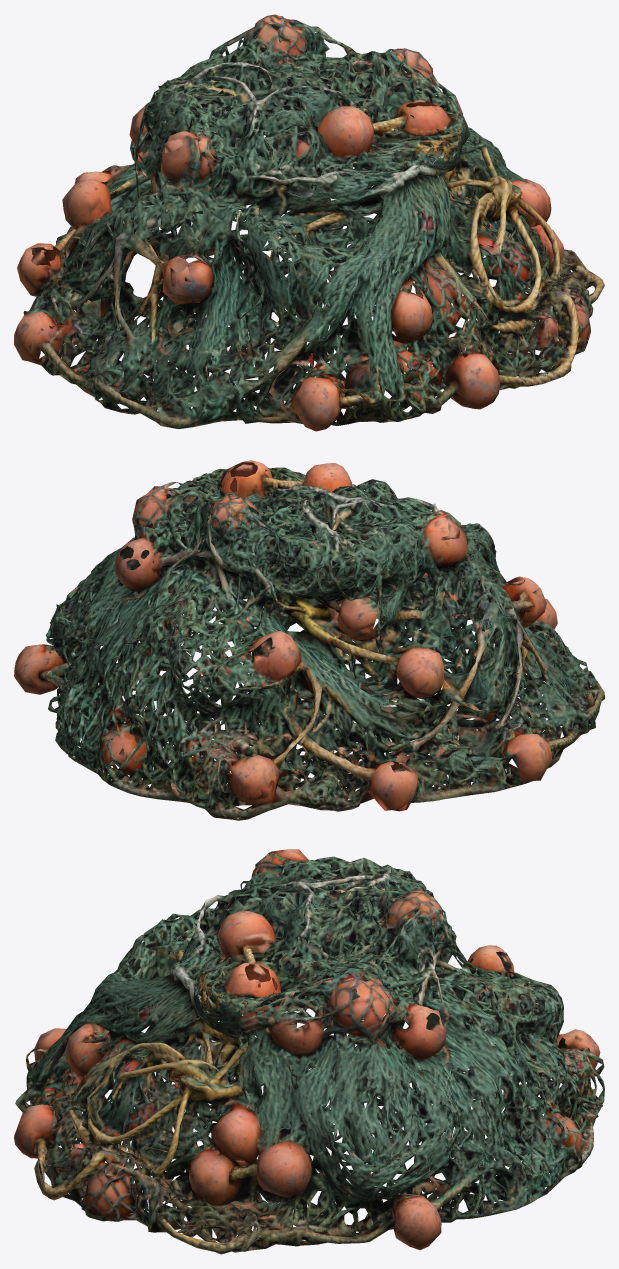
Rendered from NetPile.glb.
3 views of the same model, one above another, from view 1: azimuth 30°, elevation 25°; view 2: azimuth 150°, elevation 25°; view 3: azimuth 270°, elevation 25° (orthographic). The views are drawn at different scales.
Visible parts, largest first — view 1: texture_mapping; view 2: texture_mapping; view 3: texture_mapping.
Boxes of the visible parts, x1=… form: texture_mapping: x1=14, y1=14, x2=604, y2=431; texture_mapping: x1=14, y1=460, x2=604, y2=820; texture_mapping: x1=14, y1=849, x2=604, y2=1254.
Size of the model in its own units: 0.9976 by 0.4704 by 0.9812.
Materials: 1 (1 with a texture image).
